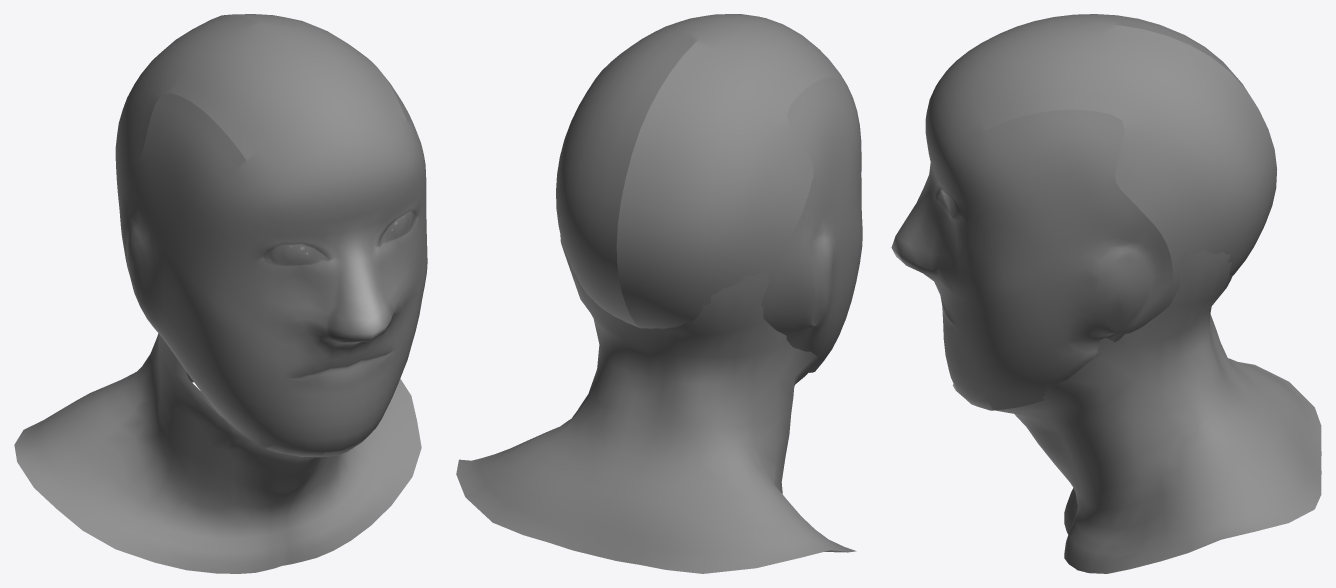
File: head_bagus.glb
3 renders of one model, left to right at view 1: azimuth 30°, elevation 25°; view 2: azimuth 150°, elevation 25°; view 3: azimuth 270°, elevation 25°, orthographic.
Parts seen in each view (by area): view 1: headOccluder_lambert1_0.001, MaleHead; view 2: headOccluder_lambert1_0.001, MaleHead; view 3: headOccluder_lambert1_0.001, MaleHead.
Boxes of the visible parts, left/top/right/bottom form: headOccluder_lambert1_0.001: left=115, top=14, right=427, bottom=457; MaleHead: left=14, top=333, right=421, bottom=573; headOccluder_lambert1_0.001: left=556, top=14, right=862, bottom=372; MaleHead: left=456, top=235, right=856, bottom=573; headOccluder_lambert1_0.001: left=891, top=14, right=1277, bottom=410; MaleHead: left=952, top=250, right=1321, bottom=573.
Bounding box in the file's own units: 0.2726 × 0.3641 × 0.2742.
Materials: 1 (1 with a texture image).
